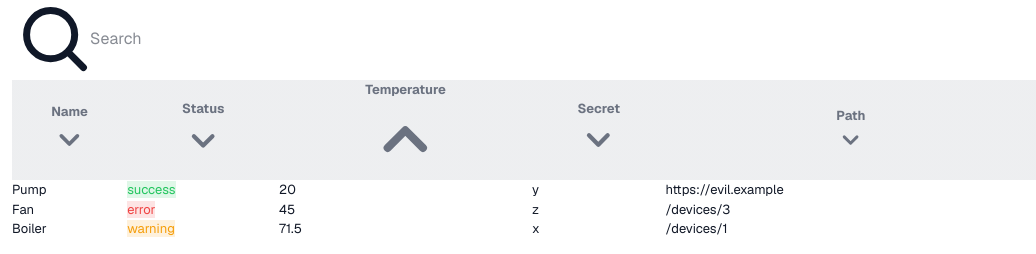
Test case: DataTableView › sorts by the default sort and lets the viewer re-sort
Expected: the text "Pump" is shown, [12,180,127,200]
Click the button "Temperature".
click(406, 130)  # box [365,80,446,180]
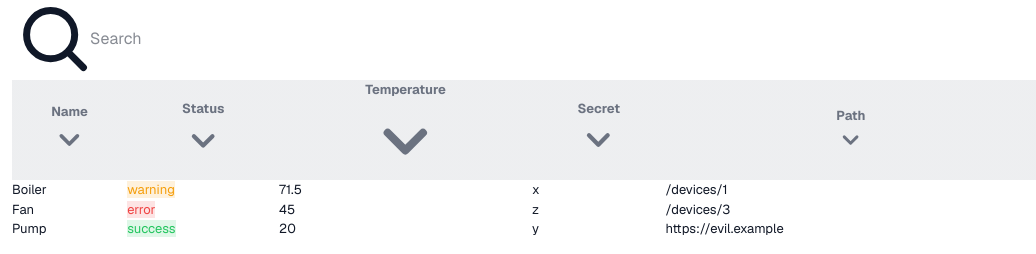
Expected: the text "Boiler" is shown, [12,180,127,200]
